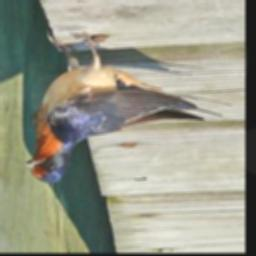Swallow: (23, 30, 201, 183)
